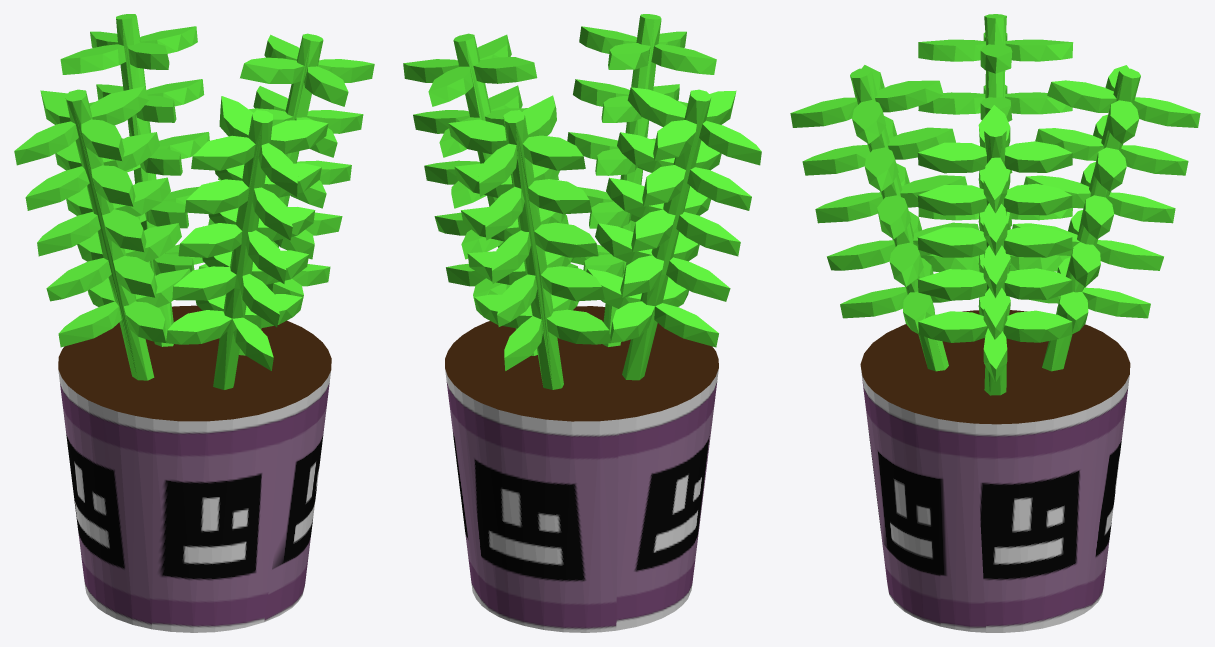
The picture shows the model from 3 angles, left to right: view 1: azimuth 30°, elevation 25°; view 2: azimuth 150°, elevation 25°; view 3: azimuth 270°, elevation 25°; orthographic projection.
Parts seen in each view (by area): view 1: obj1; view 2: obj1; view 3: obj1.
Part boxes in pixels (box(x1,y1,x2,y2)): obj1: box(14, 14, 374, 632); obj1: box(403, 14, 761, 632); obj1: box(790, 14, 1200, 632).
Bounding box in the file's own units: 0.076 × 0.076 × 0.1055.
Materials: 4 (1 with a texture image).
